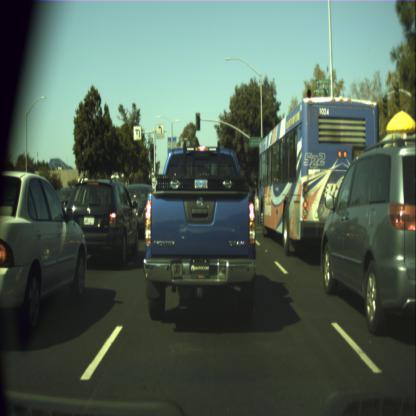RedLeft: (150, 143, 154, 159)
off: (195, 113, 200, 130)
